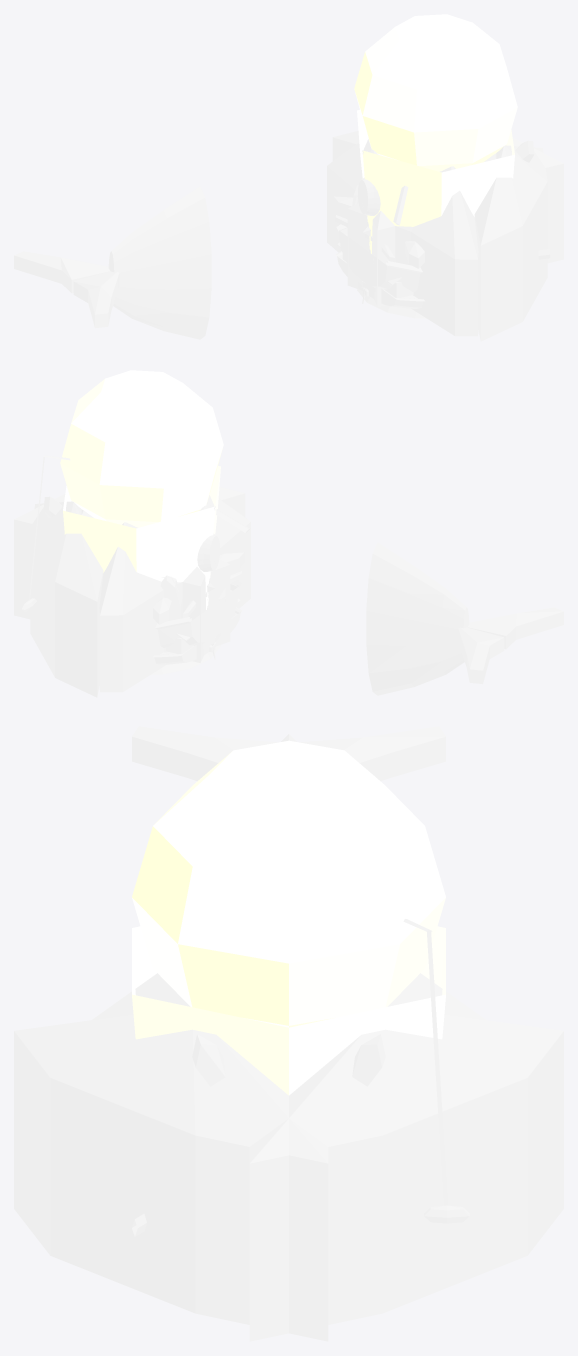
The model's file is vie-mer-v5.glb.
3 renders of one model, top to bottom at view 1: azimuth 30°, elevation 25°; view 2: azimuth 150°, elevation 25°; view 3: azimuth 270°, elevation 25°, orthographic. The views are drawn at different scales.
Parts seen in each view (by area): view 1: bouee_feu.001, baleine_queue.001, tortue_nageoireg.001, raie_aileg.001, peche_lumieres, raie_ailed.001, marchand_lumieres, tortue_nageoired.001, peche_corps.001, marchand_corps.001, tortue_corps.001, baleine_corps.001 (+1 smaller); view 2: bouee_feu.001, baleine_queue.001, tortue_nageoired.001, raie_ailed.001, peche_lumieres, raie_aileg.001, tortue_nageoireg.001, peche_corps.001, marchand_lumieres, marchand_corps.001, tortue_corps.001, peche_canne.001 (+3 smaller); view 3: tortue_nageoireg.001, bouee_feu.001, tortue_nageoired.001, peche_lumieres, baleine_queue.001, marchand_lumieres, raie_corps.001, peche_canne.001, raie_aileg.001, raie_ailed.001.
Boxes of the visible parts, x1,y1,x2,y2 form: bouee_feu.001: [354, 14, 517, 171]; baleine_queue.001: [14, 186, 211, 339]; tortue_nageoireg.001: [474, 145, 547, 341]; raie_aileg.001: [347, 166, 478, 336]; peche_lumieres: [357, 110, 441, 253]; raie_ailed.001: [327, 139, 395, 306]; marchand_lumieres: [357, 110, 514, 248]; tortue_nageoired.001: [332, 130, 563, 263]; peche_corps.001: [336, 148, 422, 292]; marchand_corps.001: [335, 242, 424, 308]; tortue_corps.001: [333, 196, 424, 268]; baleine_corps.001: [358, 177, 380, 215]; bouee_feu.001: [60, 370, 223, 527]; baleine_queue.001: [366, 542, 563, 695]; tortue_nageoired.001: [30, 501, 103, 697]; raie_ailed.001: [99, 522, 230, 692]; peche_lumieres: [70, 466, 220, 601]; raie_aileg.001: [182, 495, 250, 662]; tortue_nageoireg.001: [14, 486, 245, 619]; peche_corps.001: [155, 504, 241, 647]; marchand_lumieres: [63, 466, 220, 609]; marchand_corps.001: [153, 598, 242, 664]; tortue_corps.001: [153, 552, 244, 624]; peche_canne.001: [22, 455, 249, 611]; tortue_nageoireg.001: [14, 1014, 328, 1341]; bouee_feu.001: [132, 740, 445, 1027]; tortue_nageoired.001: [249, 1014, 563, 1341]; peche_lumieres: [132, 932, 445, 1095]; baleine_queue.001: [132, 726, 445, 781]; marchand_lumieres: [132, 926, 445, 1095]; raie_corps.001: [192, 1034, 385, 1086]; peche_canne.001: [403, 919, 469, 1223]; raie_aileg.001: [92, 973, 189, 1019]; raie_ailed.001: [388, 973, 485, 1019].
Size of the model in its own units: 6.8 by 3.5 by 3.5.
